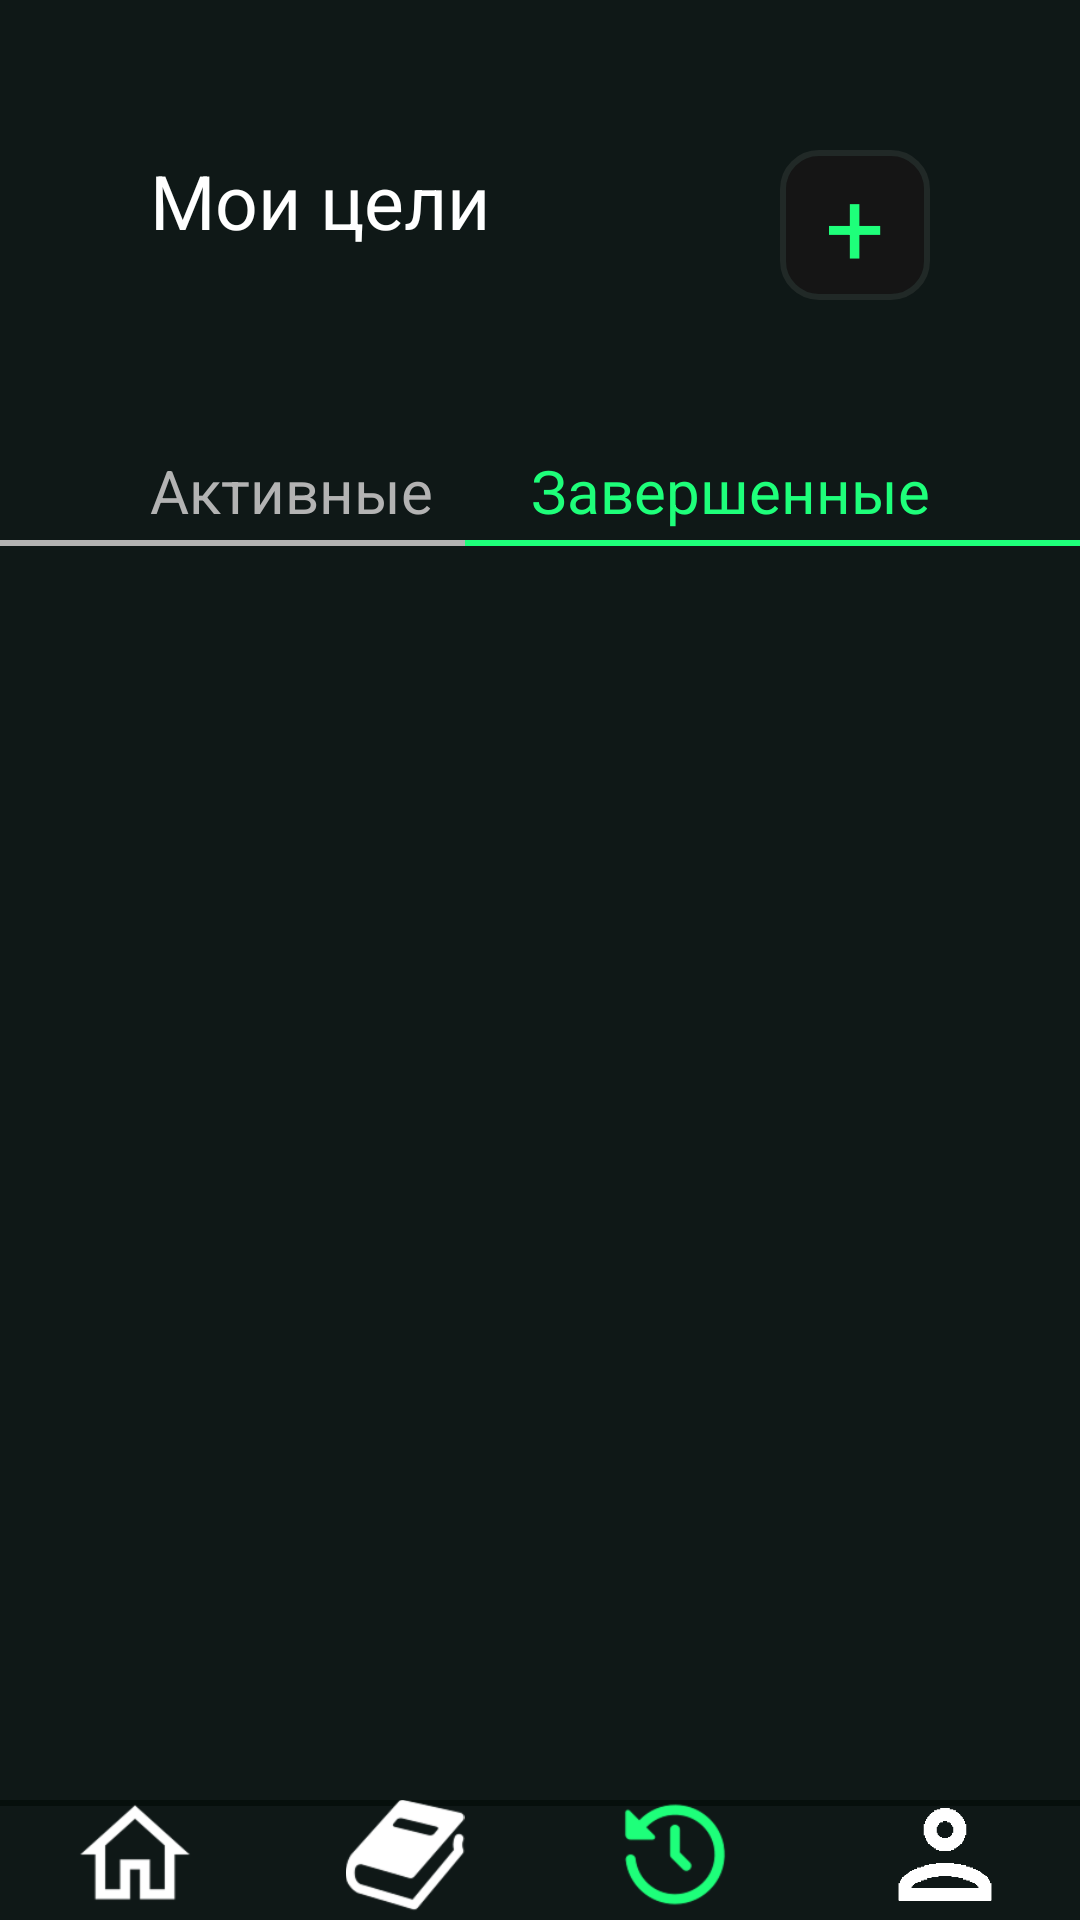

Icon bounding boxes for this 1080px×1920px phone screenshot, format rect(x1, y1, x2, y2):
book: rect(346, 1800, 465, 1910)
history: rect(625, 1804, 725, 1905)
home: rect(80, 1805, 190, 1900)
user: rect(898, 1808, 992, 1901)
